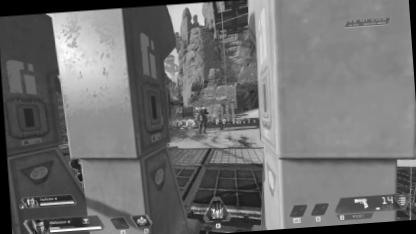Target: (194, 105, 208, 134)
